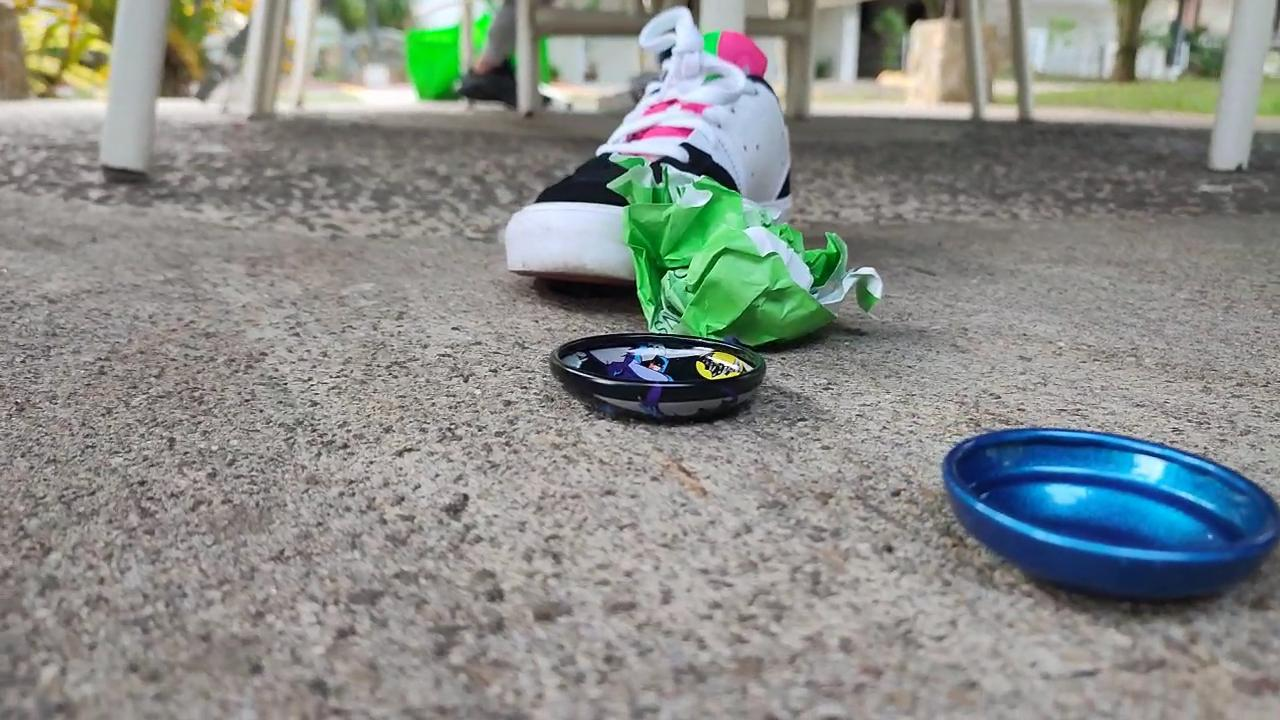Paper: (602, 142, 893, 347)
